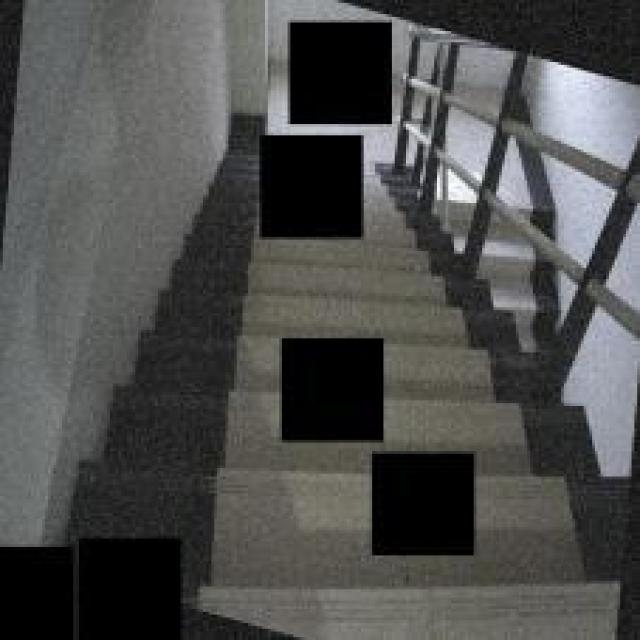downstair: (198, 246, 472, 334)
